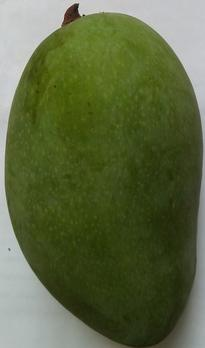Unripe: (1, 1, 205, 348)
